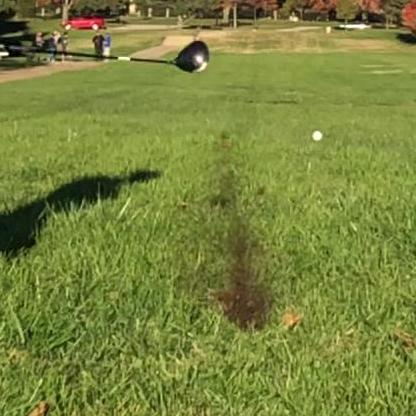golfball: (308, 126, 322, 140)
